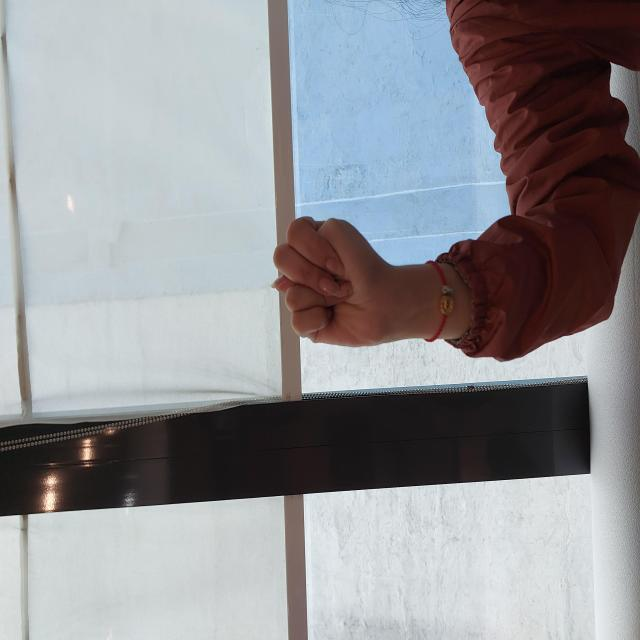N: (288, 267, 427, 389)
